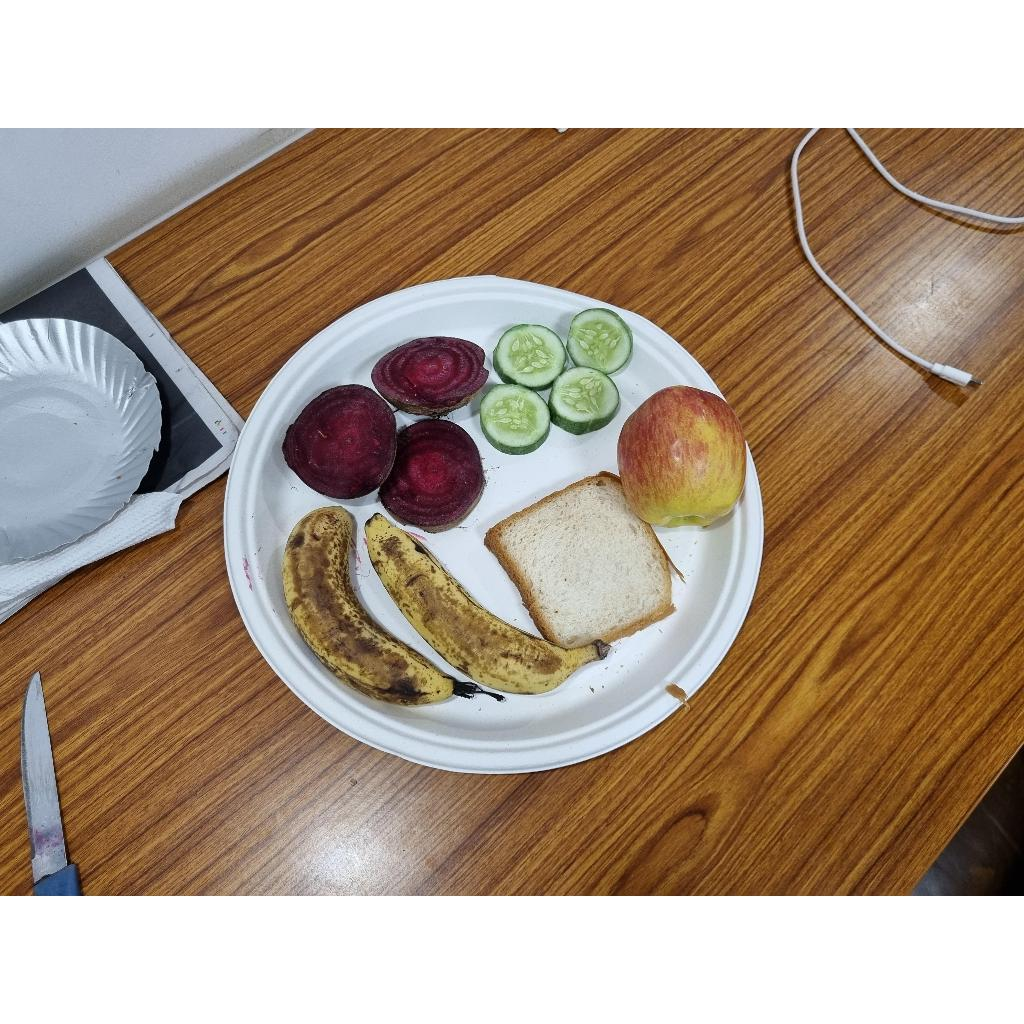apple: (618, 387, 749, 532)
banana: (362, 514, 611, 696), (282, 508, 503, 708)
cucumber: (472, 377, 554, 458), (489, 325, 570, 396), (550, 365, 621, 439), (570, 310, 634, 378)
